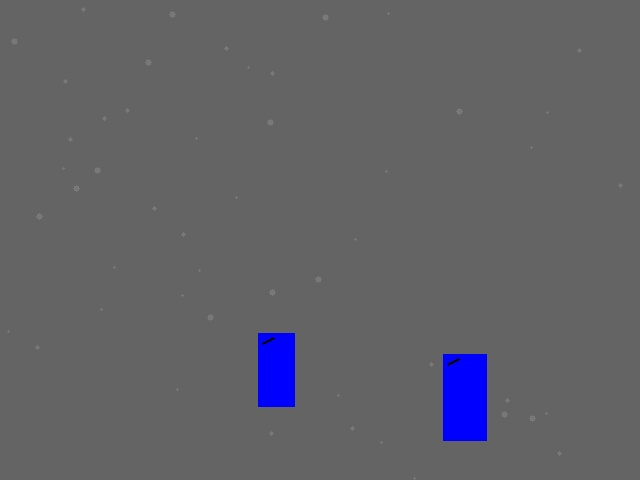motorcycle: (443, 354, 486, 440), (258, 333, 294, 406)
